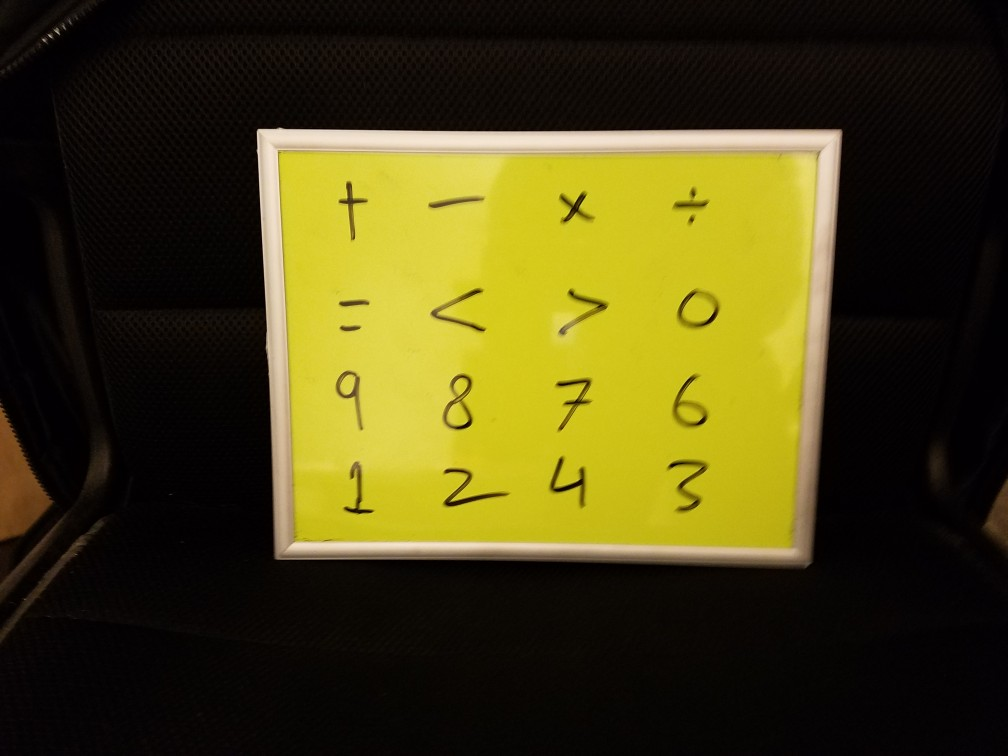+: (333, 174, 373, 247)
-: (415, 182, 499, 218)
0: (671, 277, 727, 335)
1: (334, 453, 376, 521)
2: (439, 454, 511, 510)
3: (657, 452, 716, 522)
4: (542, 450, 593, 515)
6: (657, 368, 722, 438)
7: (541, 364, 599, 436)
8: (434, 364, 486, 440)
9: (332, 365, 375, 440)
<: (426, 279, 495, 340)
=: (329, 288, 375, 342)
>: (552, 281, 616, 346)
div: (664, 181, 715, 228)
x: (557, 187, 593, 228)
